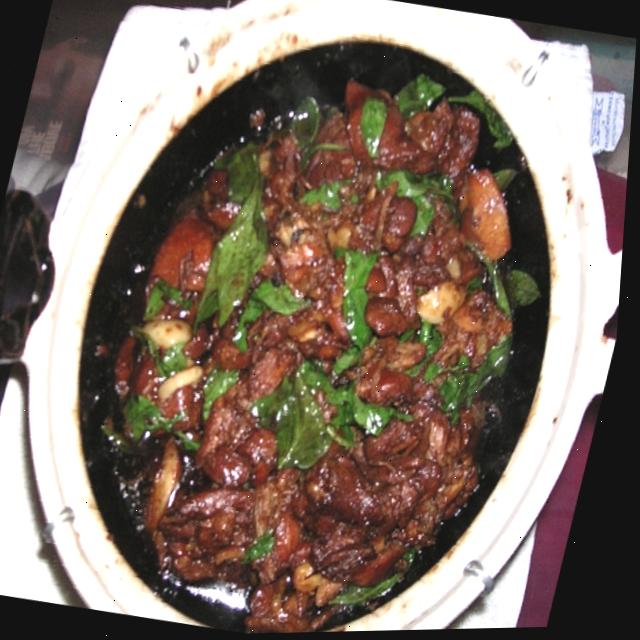鸡肉料理 含炸鸡: (89, 42, 586, 609)
